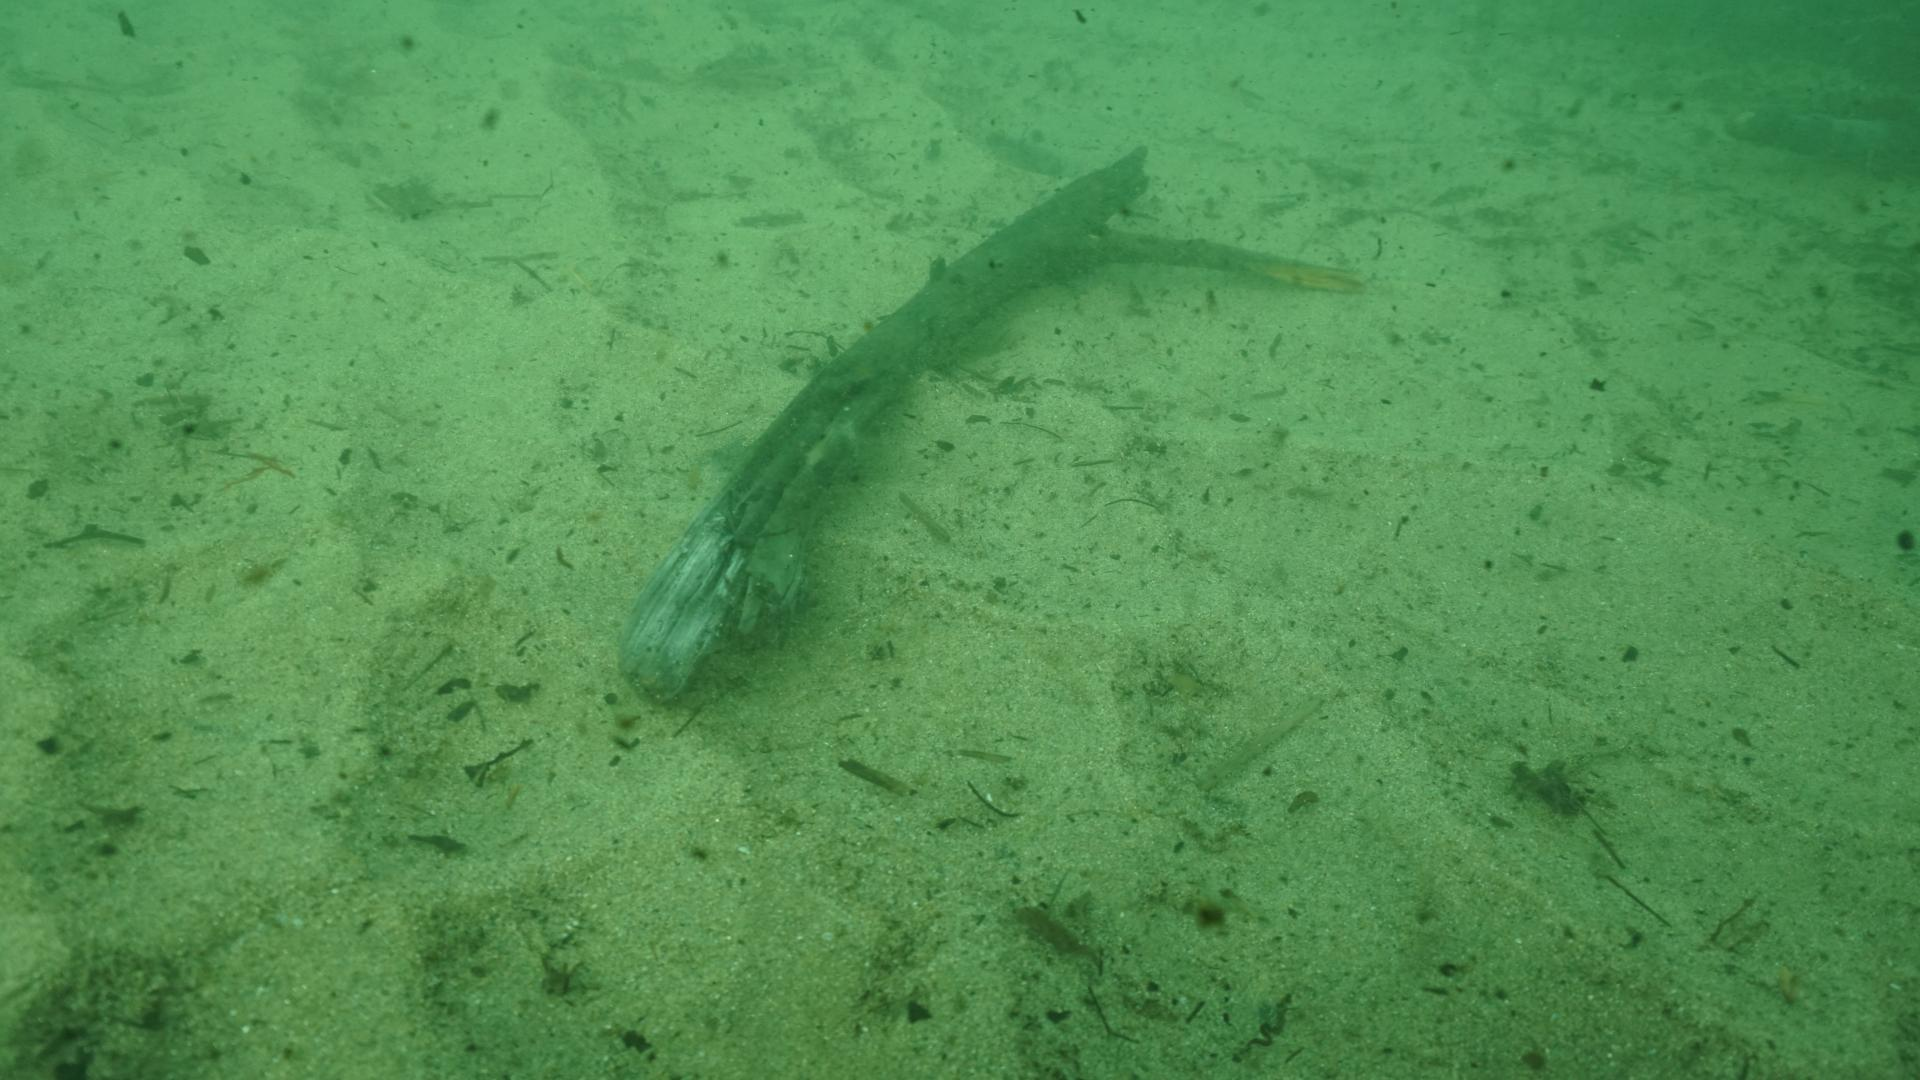wood: (615, 140, 1362, 702)
